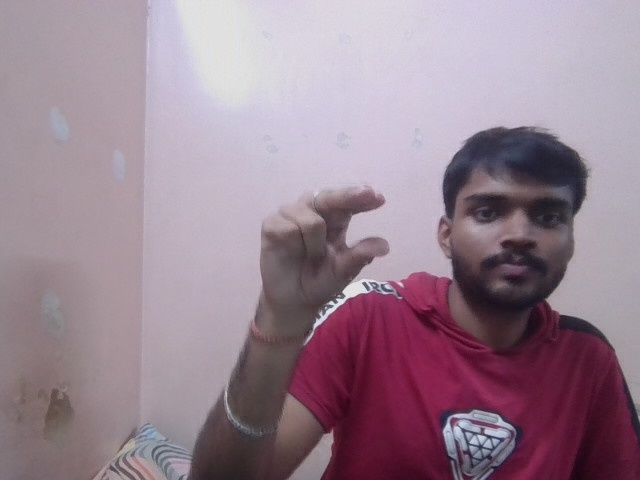No: (253, 181, 387, 305)
